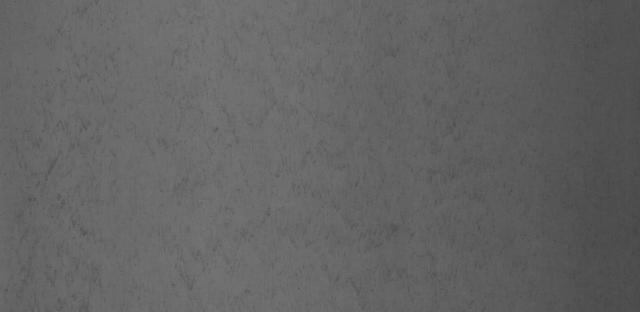silk_spot: (178, 44, 512, 272)
